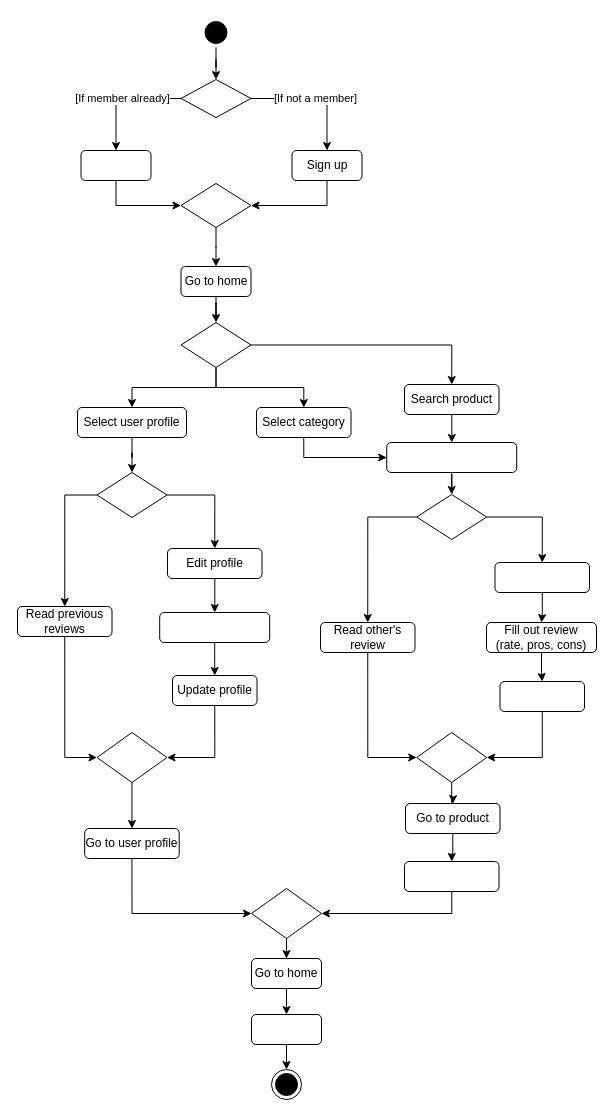
The diagram is 614 pixels wide and 1117 high, and some of its shapes have lost their labels. The centre of each missing label's shape, as x and y in pixels:
Fill out profile: the point at 214,627
Go back to search menu: the point at 451,876
Log in: the point at 115,165
Log out: the point at 286,1029
Register review: the point at 541,696
Select menu for writing review: the point at 542,577
Select product to access review page: the point at 451,457
